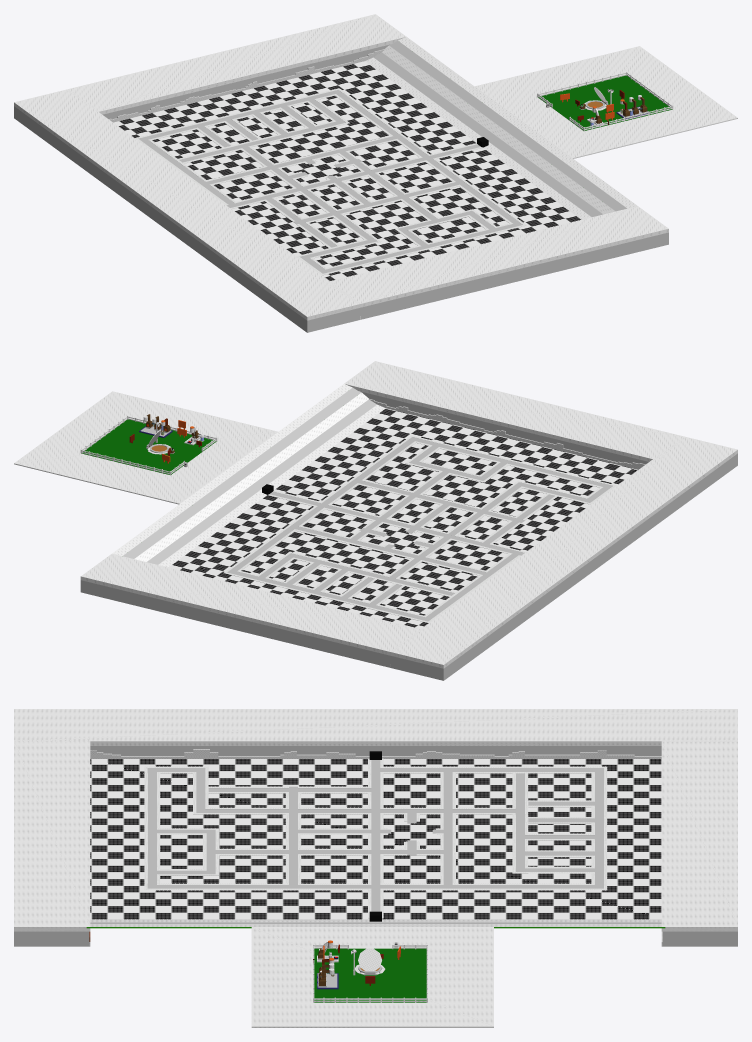
The picture shows the model from 3 angles, top to bottom: view 1: azimuth 30°, elevation 25°; view 2: azimuth 150°, elevation 25°; view 3: azimuth 270°, elevation 25°; orthographic projection. The views are drawn at different scales.
Visible parts, largest first — view 1: Top2, Mapground1, Floor6, liba; view 2: Top2, Mapground1, Floor6, liba; view 3: Top2, Mapground1, Floor6, liba.
Part boxes in pixels (<box>): Top2: <box>14,14,668,332</box>; Mapground1: <box>475,46,737,158</box>; Floor6: <box>538,75,672,130</box>; liba: <box>537,71,673,130</box>; Top2: <box>80,361,737,680</box>; Mapground1: <box>14,391,277,504</box>; Floor6: <box>81,419,216,474</box>; liba: <box>80,415,217,474</box>; Top2: <box>14,709,737,946</box>; Mapground1: <box>251,927,493,1027</box>; Floor6: <box>314,948,426,1002</box>; liba: <box>313,944,427,1002</box>.
Size of the model in its own units: 20816 by 1347 by 20059.
